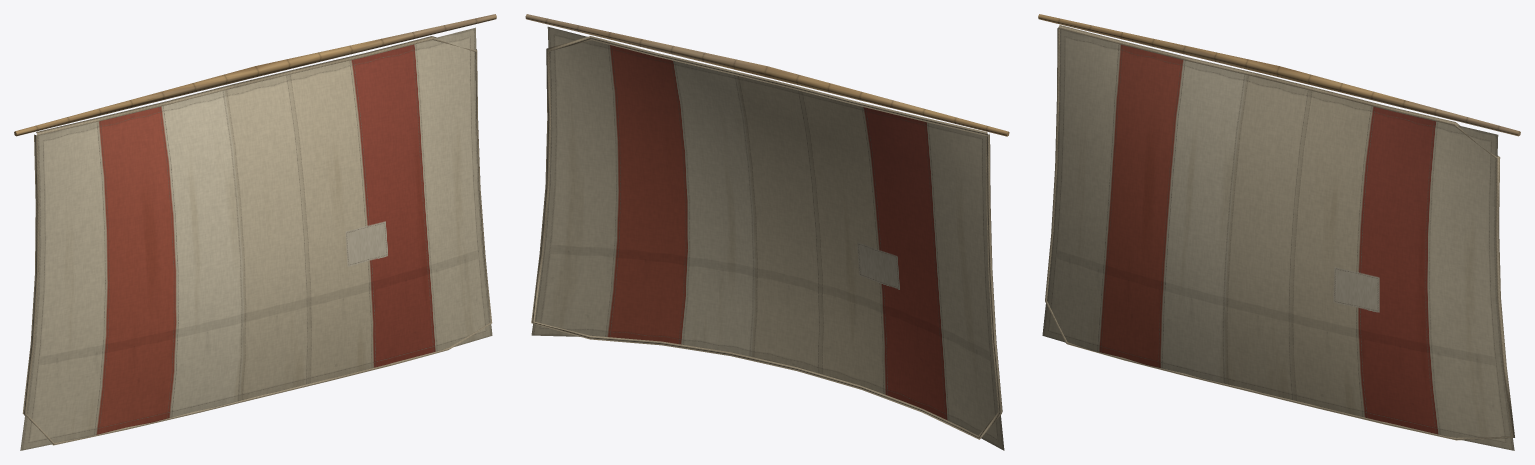
The model's file is DriftBoatSail_LOD2.gltf.
3 views of the same model, side by side, from view 1: azimuth 30°, elevation 25°; view 2: azimuth 150°, elevation 25°; view 3: azimuth 330°, elevation 25° (orthographic).
Visible parts, largest first — view 1: DriftBoatSail; view 2: DriftBoatSail; view 3: DriftBoatSail.
Boxes of the visible parts, x1=… form: DriftBoatSail: x1=14, y1=14, x2=496, y2=450; DriftBoatSail: x1=525, y1=14, x2=1009, y2=450; DriftBoatSail: x1=1038, y1=14, x2=1520, y2=450.
Bounding box in the file's own units: 4.7 × 3.06 × 0.413.
1 material, 1 textured.
